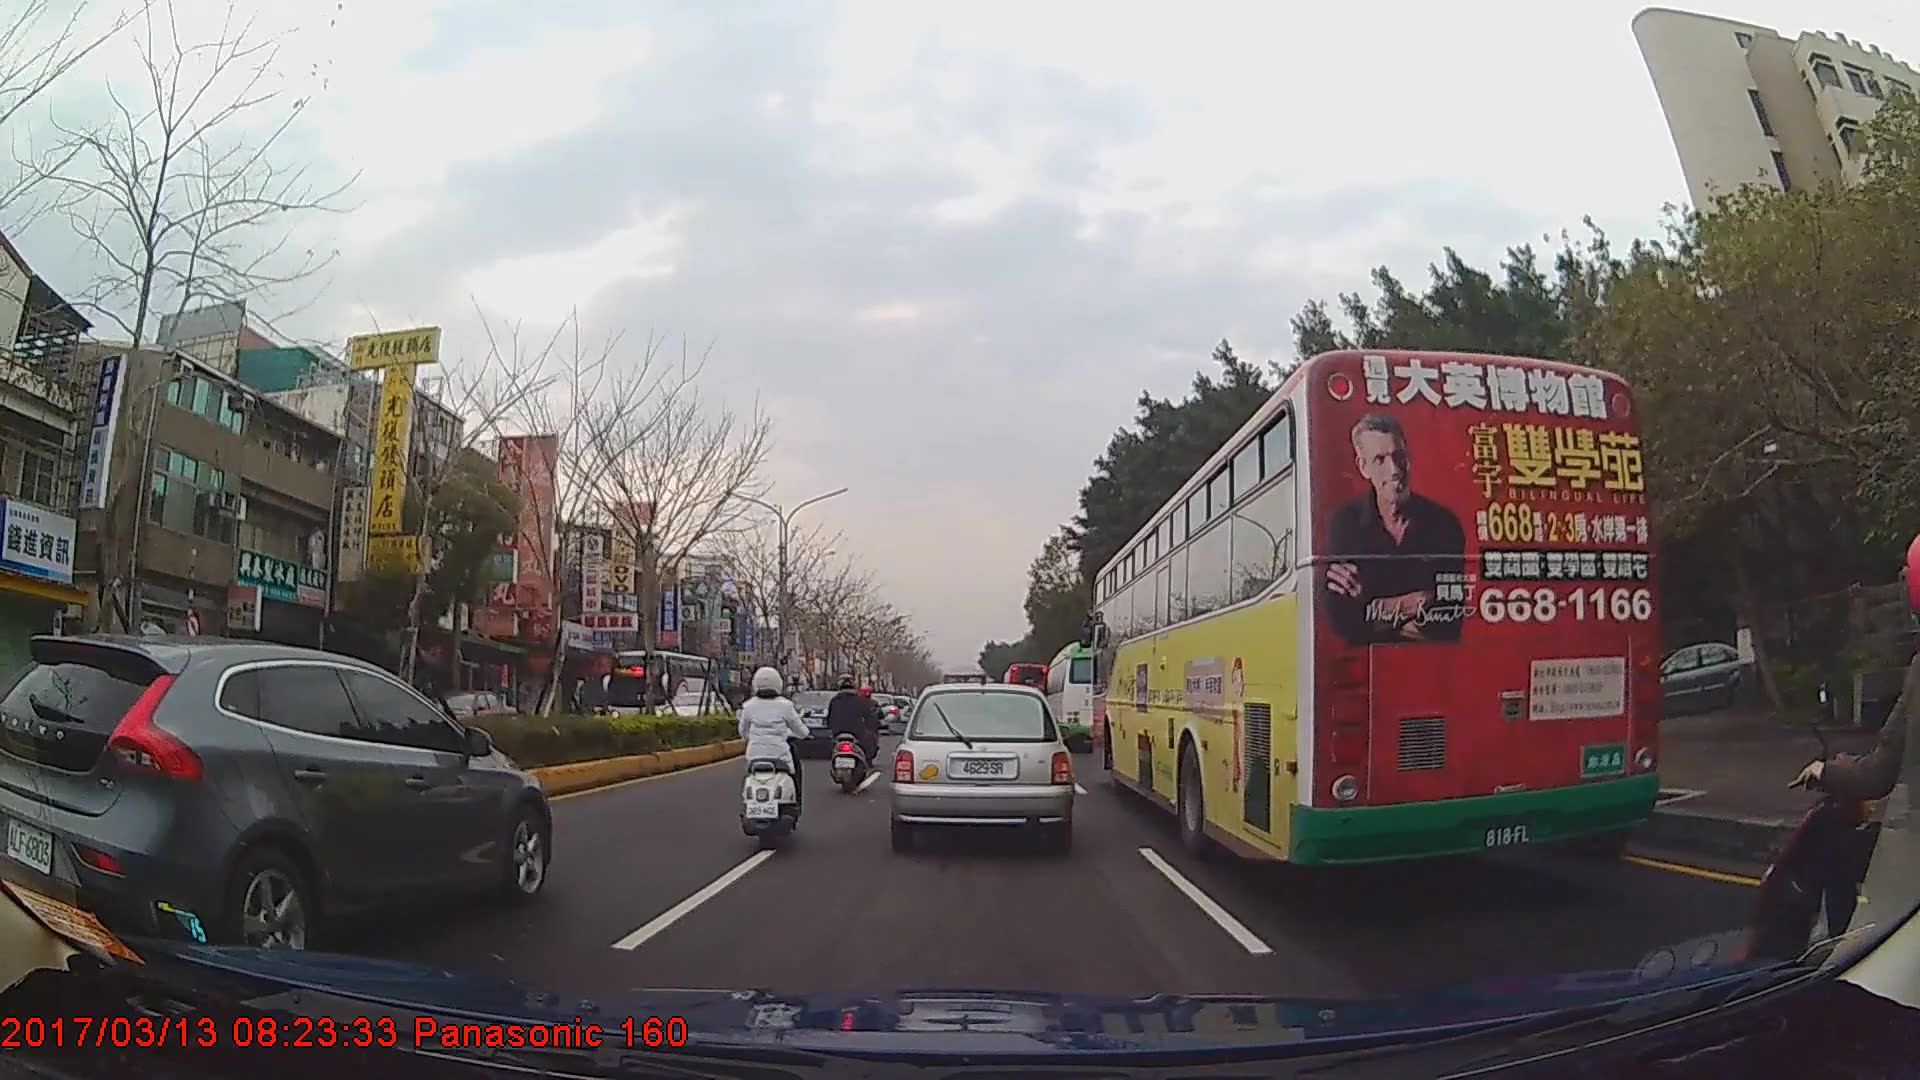rider: (1745, 541, 1920, 1004), (731, 665, 807, 853), (822, 676, 878, 793), (852, 678, 886, 764)
vehicle: (1093, 346, 1660, 867), (0, 630, 552, 965), (893, 681, 1070, 850), (606, 649, 718, 733), (1043, 638, 1123, 749), (778, 688, 867, 758), (420, 687, 519, 739), (1002, 653, 1051, 725), (658, 689, 733, 735)
